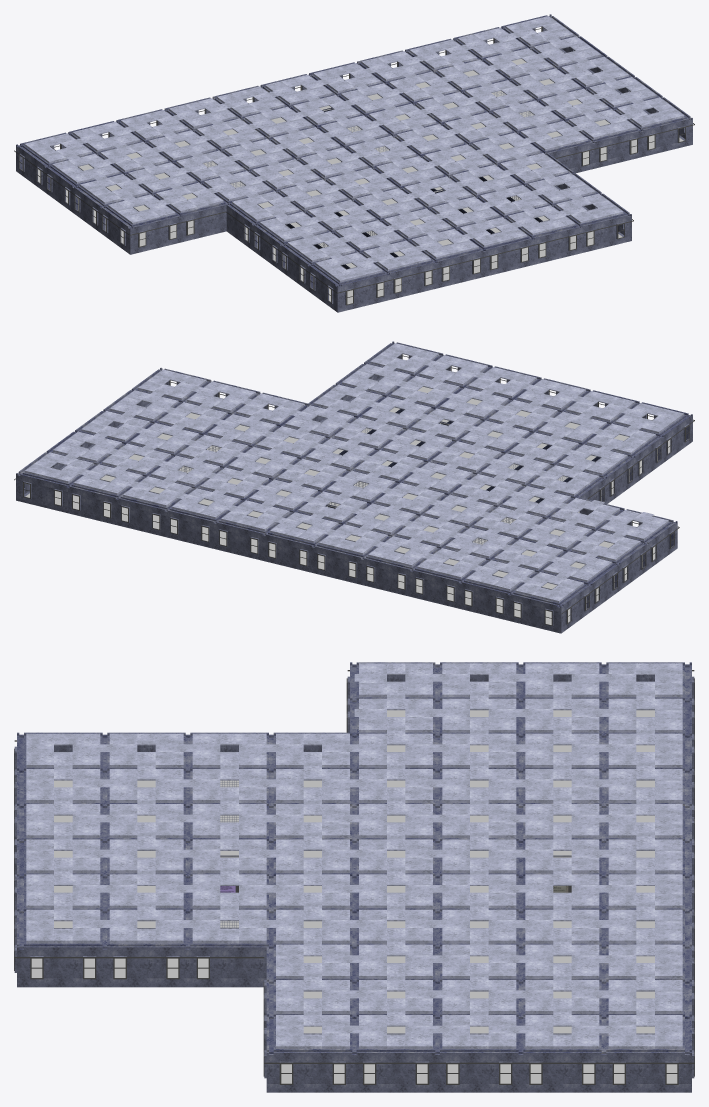
File: backroom06.dae
3 renders of one model, top to bottom at view 1: azimuth 30°, elevation 25°; view 2: azimuth 150°, elevation 25°; view 3: azimuth 270°, elevation 25°, orthographic. The views are drawn at different scales.
Visible parts, largest first — view 1: group_1, group_2, group_0, group_3, SketchUp, group_14; view 2: group_1, group_2, group_0, group_3, SketchUp, group_14; view 3: group_1, group_0, group_2, group_3, SketchUp, group_14.
Boxes of the visible parts, bbox=[...] form: group_1: bbox=[24, 16, 684, 282]; group_2: bbox=[16, 27, 692, 312]; group_0: bbox=[16, 14, 692, 288]; group_3: bbox=[38, 58, 683, 304]; SketchUp: bbox=[14, 50, 694, 305]; group_14: bbox=[93, 99, 581, 292]; group_1: bbox=[24, 343, 684, 602]; group_2: bbox=[16, 354, 692, 633]; group_0: bbox=[16, 341, 692, 608]; group_3: bbox=[25, 386, 670, 624]; SketchUp: bbox=[14, 354, 694, 624]; group_14: bbox=[129, 454, 626, 588]; group_1: bbox=[26, 663, 682, 1048]; group_0: bbox=[17, 662, 691, 1054]; group_2: bbox=[14, 675, 694, 1092]; group_3: bbox=[31, 710, 677, 1083]; SketchUp: bbox=[14, 670, 694, 1084]; group_14: bbox=[54, 710, 654, 1033].
Bounding box in the file's own units: 2416 × 1768 × 125.
